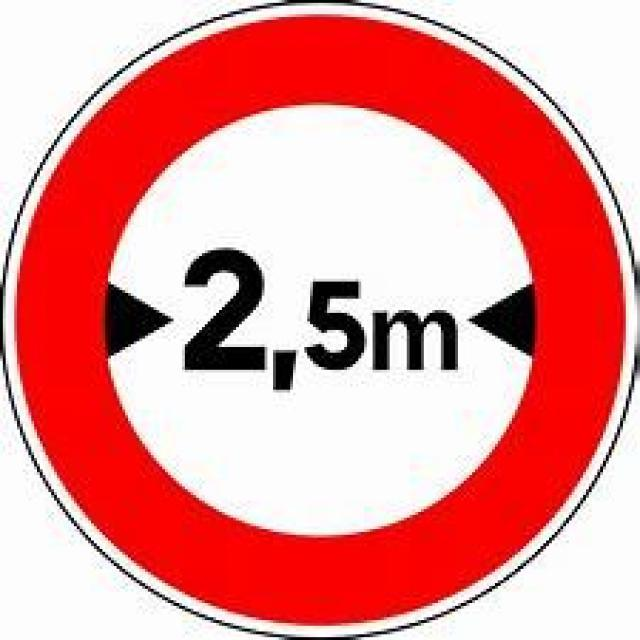width limit: (25, 23, 618, 625)
